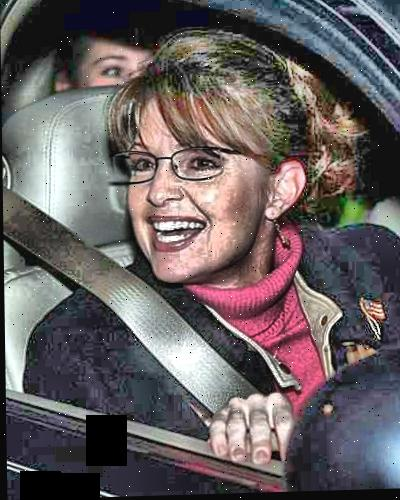seatbelt: (19, 165, 245, 442)
